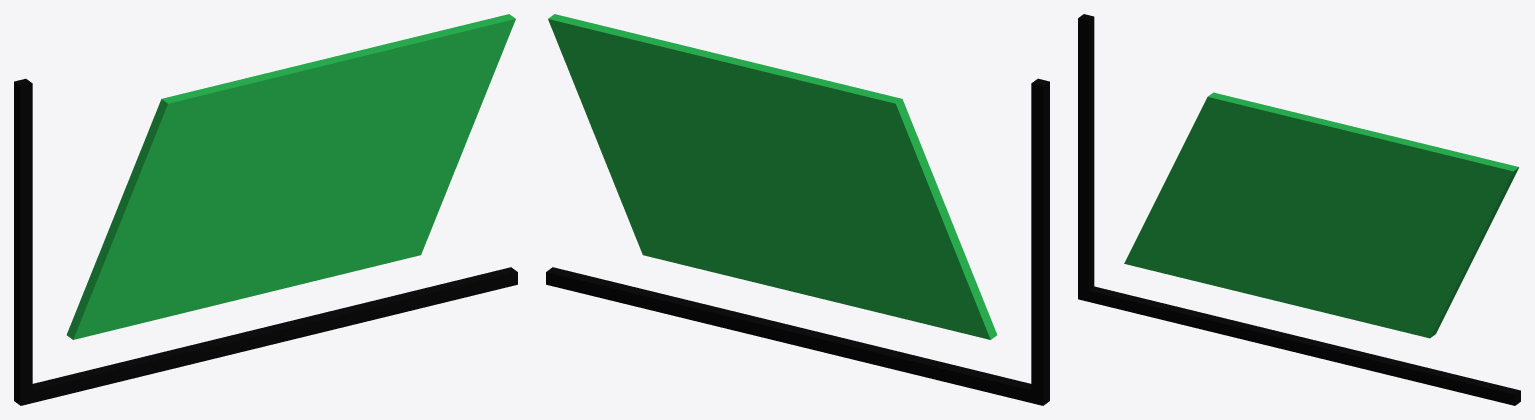
Rendered from romboide.gltf.
3 views of the same model, side by side, from view 1: azimuth 30°, elevation 25°; view 2: azimuth 150°, elevation 25°; view 3: azimuth 330°, elevation 25° (orthographic). The views are drawn at different scales.
Size of the model in its own units: 0.0976 by 0.06 by 0.00228.
